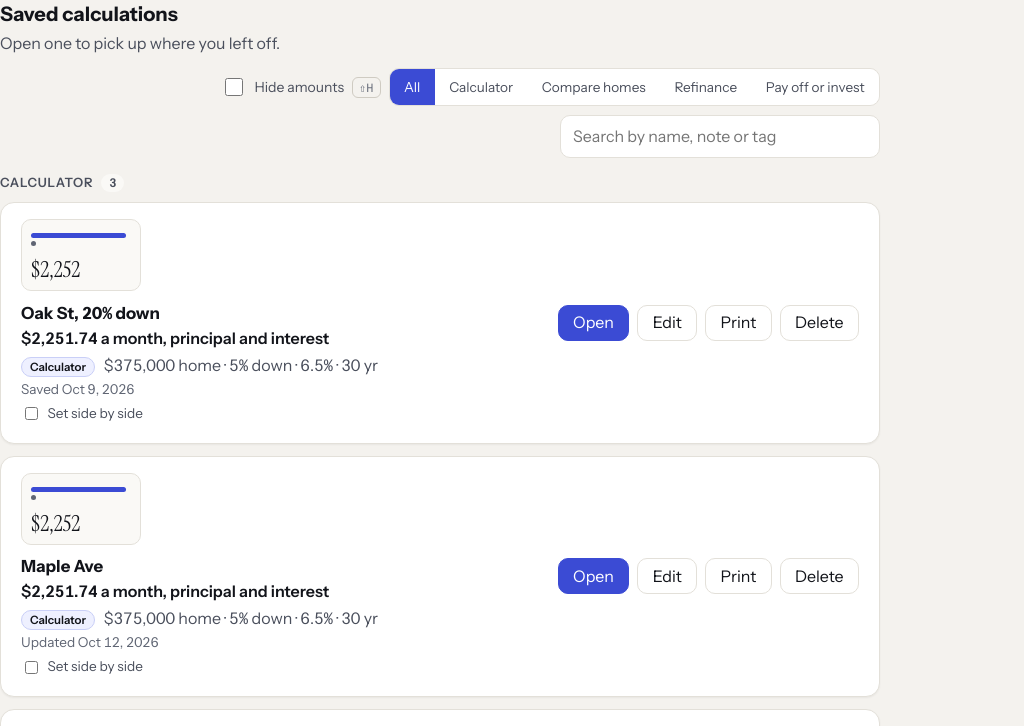
Test case: HistoryPageComponent › the list › two side by side › only offers a pick for purchases, and holds it to two
Click the checkbox labelled "Set side by side" below "Oak St, 20% down" at (32, 414), box [25,407,38,420]
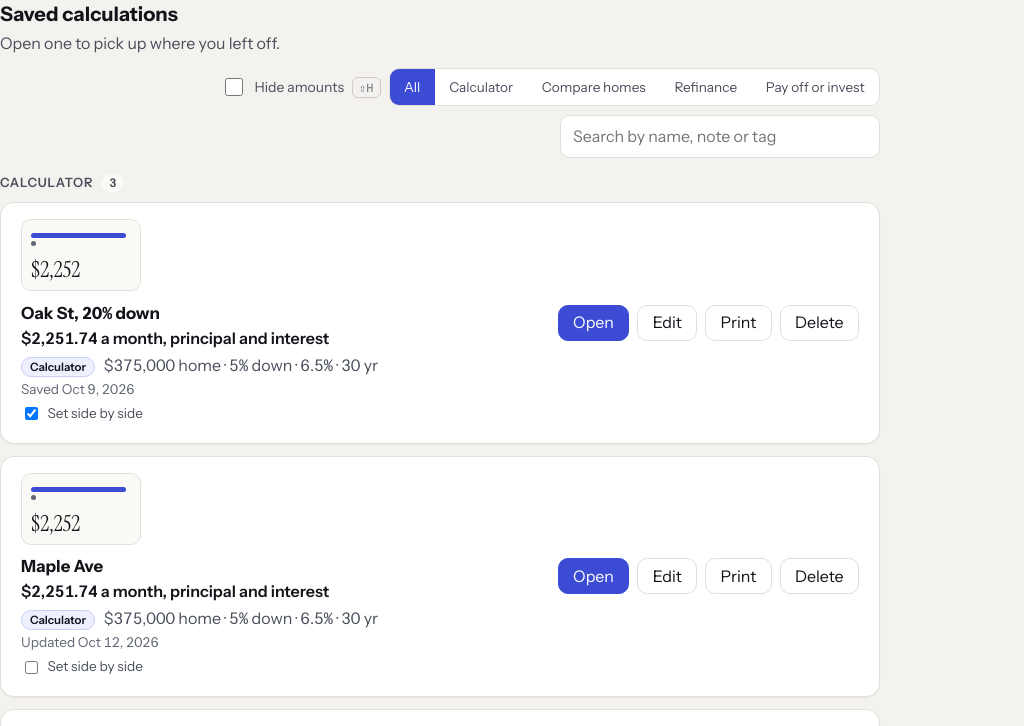
Click the checkbox labelled "Set side by side" below "Updated Oct 12, 2026" at (32, 667), box [25,661,38,674]
(page scrolled)
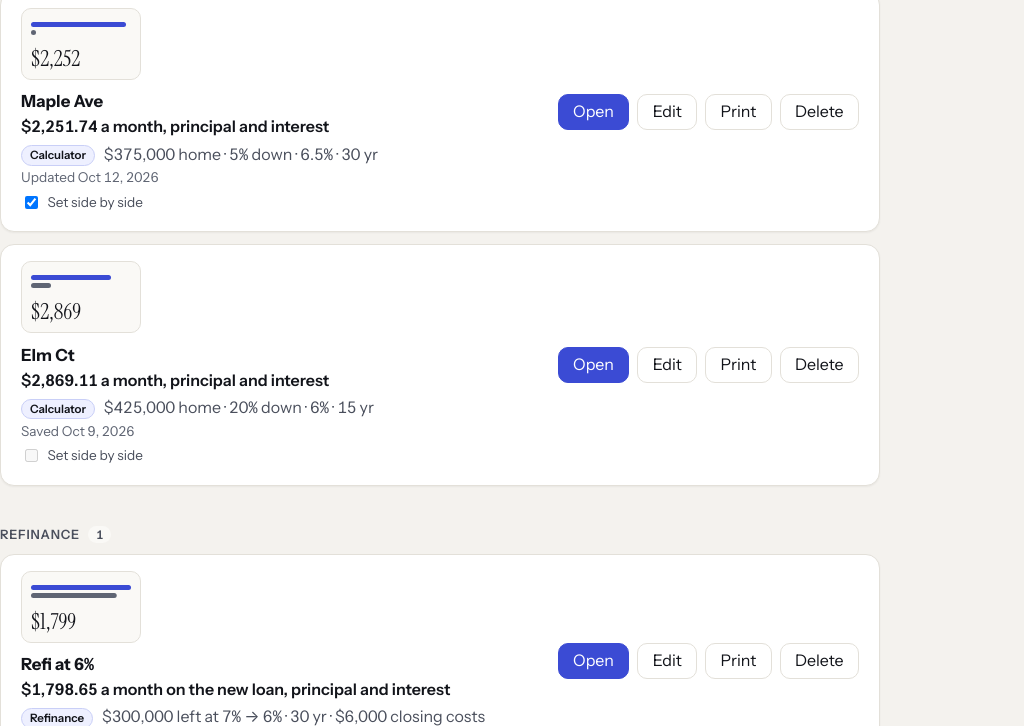
Now the checkbox with test id "pick-5" is disabled, box [25,449,38,462]
